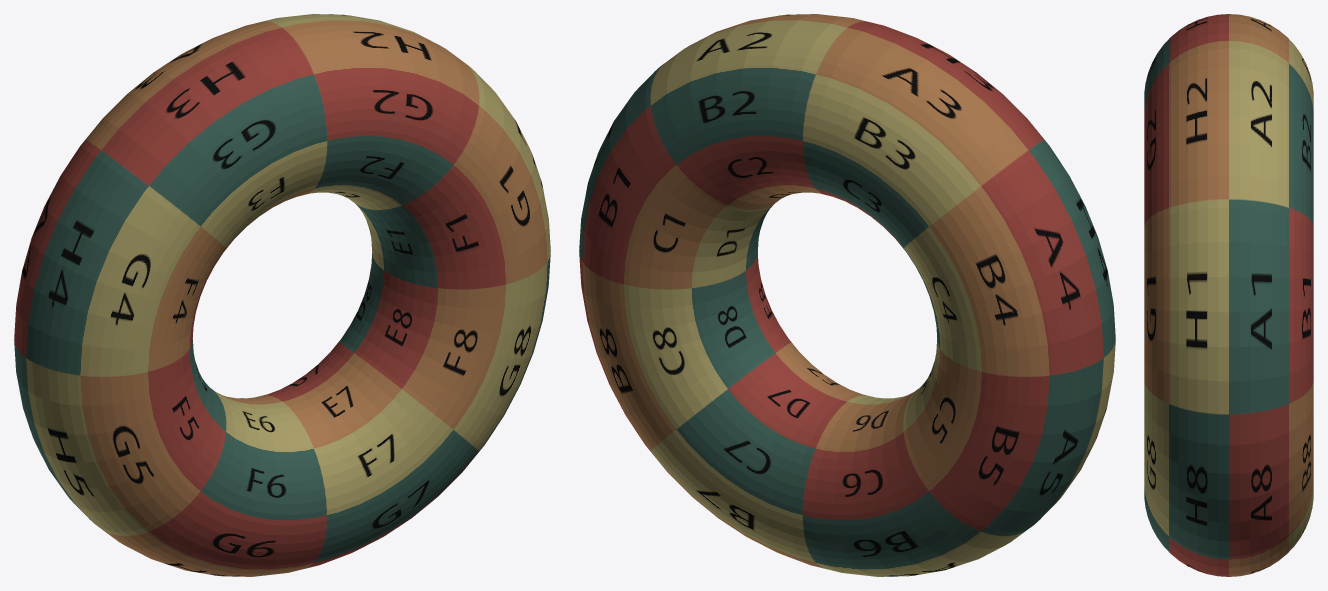
The model's file is texture_torus_R16_r26.glb.
The picture shows the model from 3 angles, left to right: view 1: azimuth 30°, elevation 25°; view 2: azimuth 150°, elevation 25°; view 3: azimuth 270°, elevation 25°; orthographic projection. The views are drawn at different scales.
Parts seen in each view (by area): view 1: world; view 2: world; view 3: world.
Boxes of the visible parts, x1,y1,x2,y2 form: world: (14, 14, 550, 576); world: (579, 14, 1115, 576); world: (1144, 14, 1313, 576).
Size of the model in its own units: 29.6 by 29.54 by 8.92.
1 material, 1 textured.
